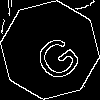G: (25, 25, 85, 86)
